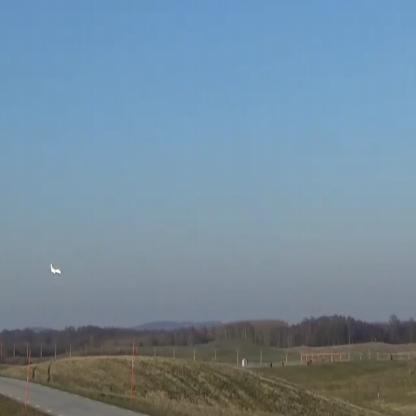aircraft: (50, 264, 62, 274)
